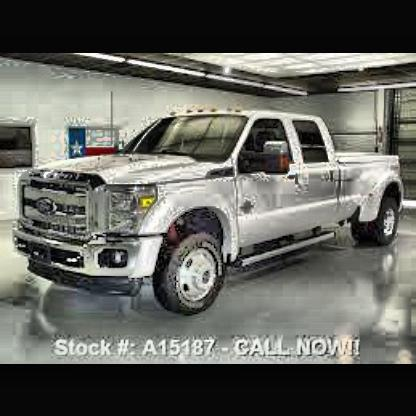Ford F-450 Super Duty Crew Cab 2012: (15, 106, 405, 318)
